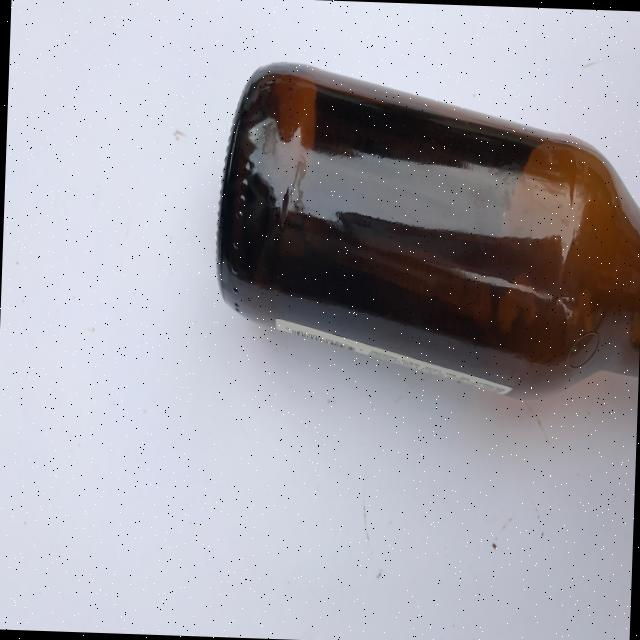glass: (209, 57, 640, 404)
